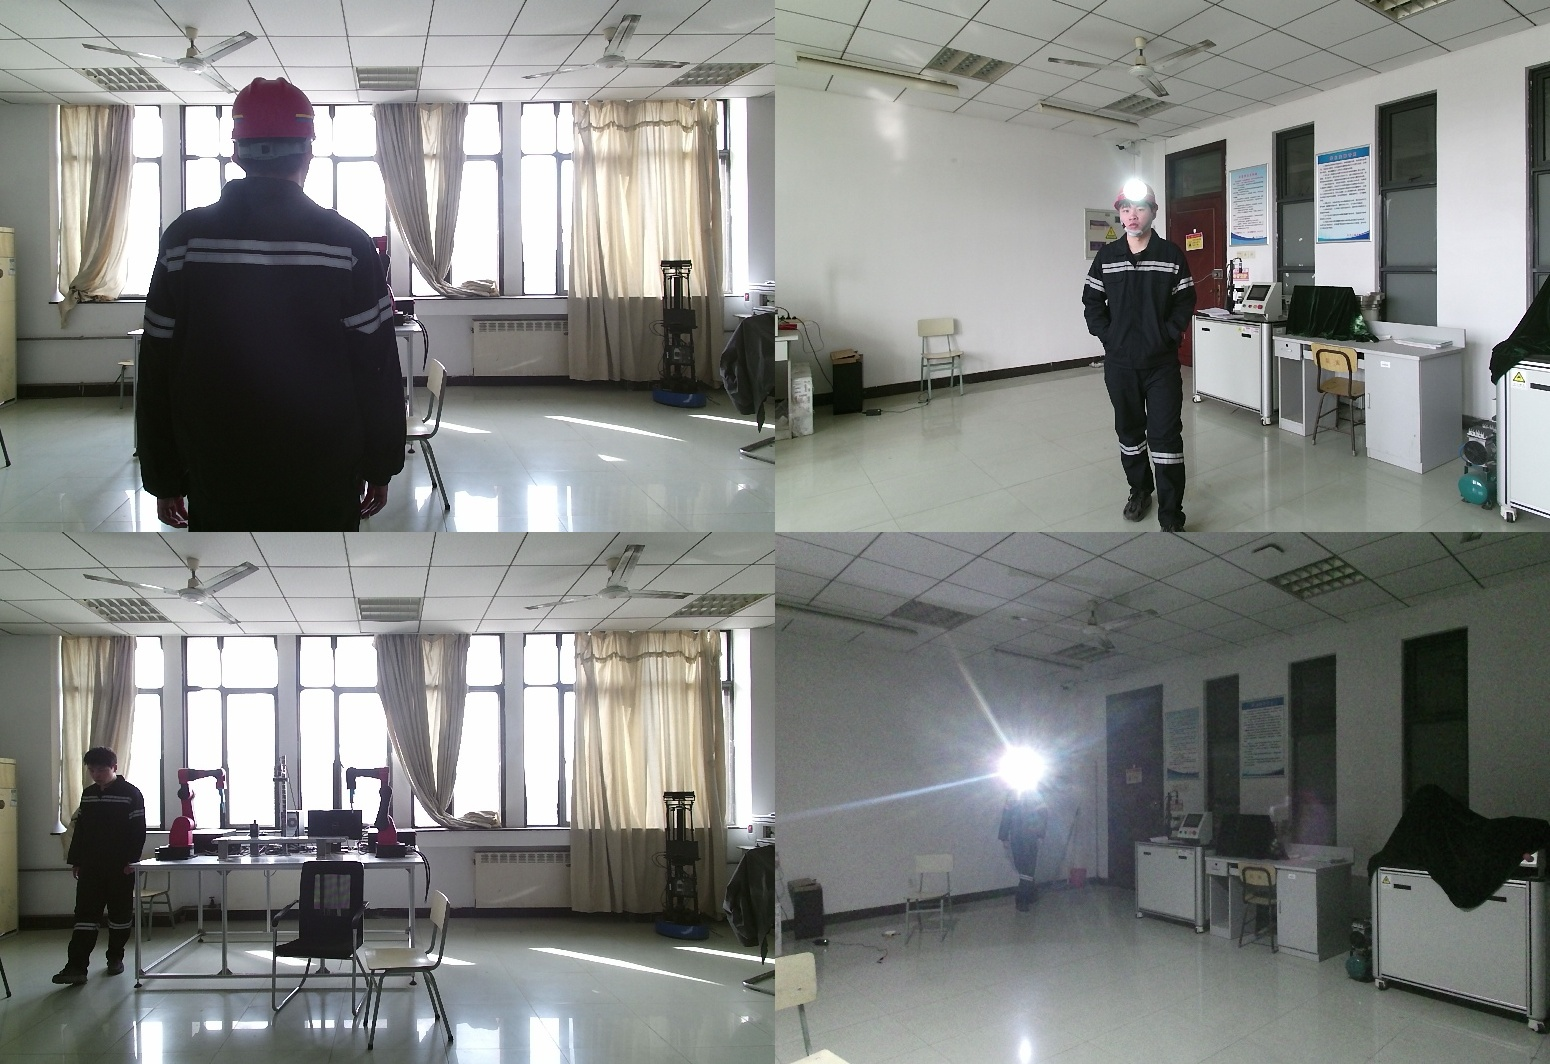person: (136, 79, 409, 532), (1079, 182, 1209, 532), (50, 749, 146, 983), (999, 765, 1053, 914)
